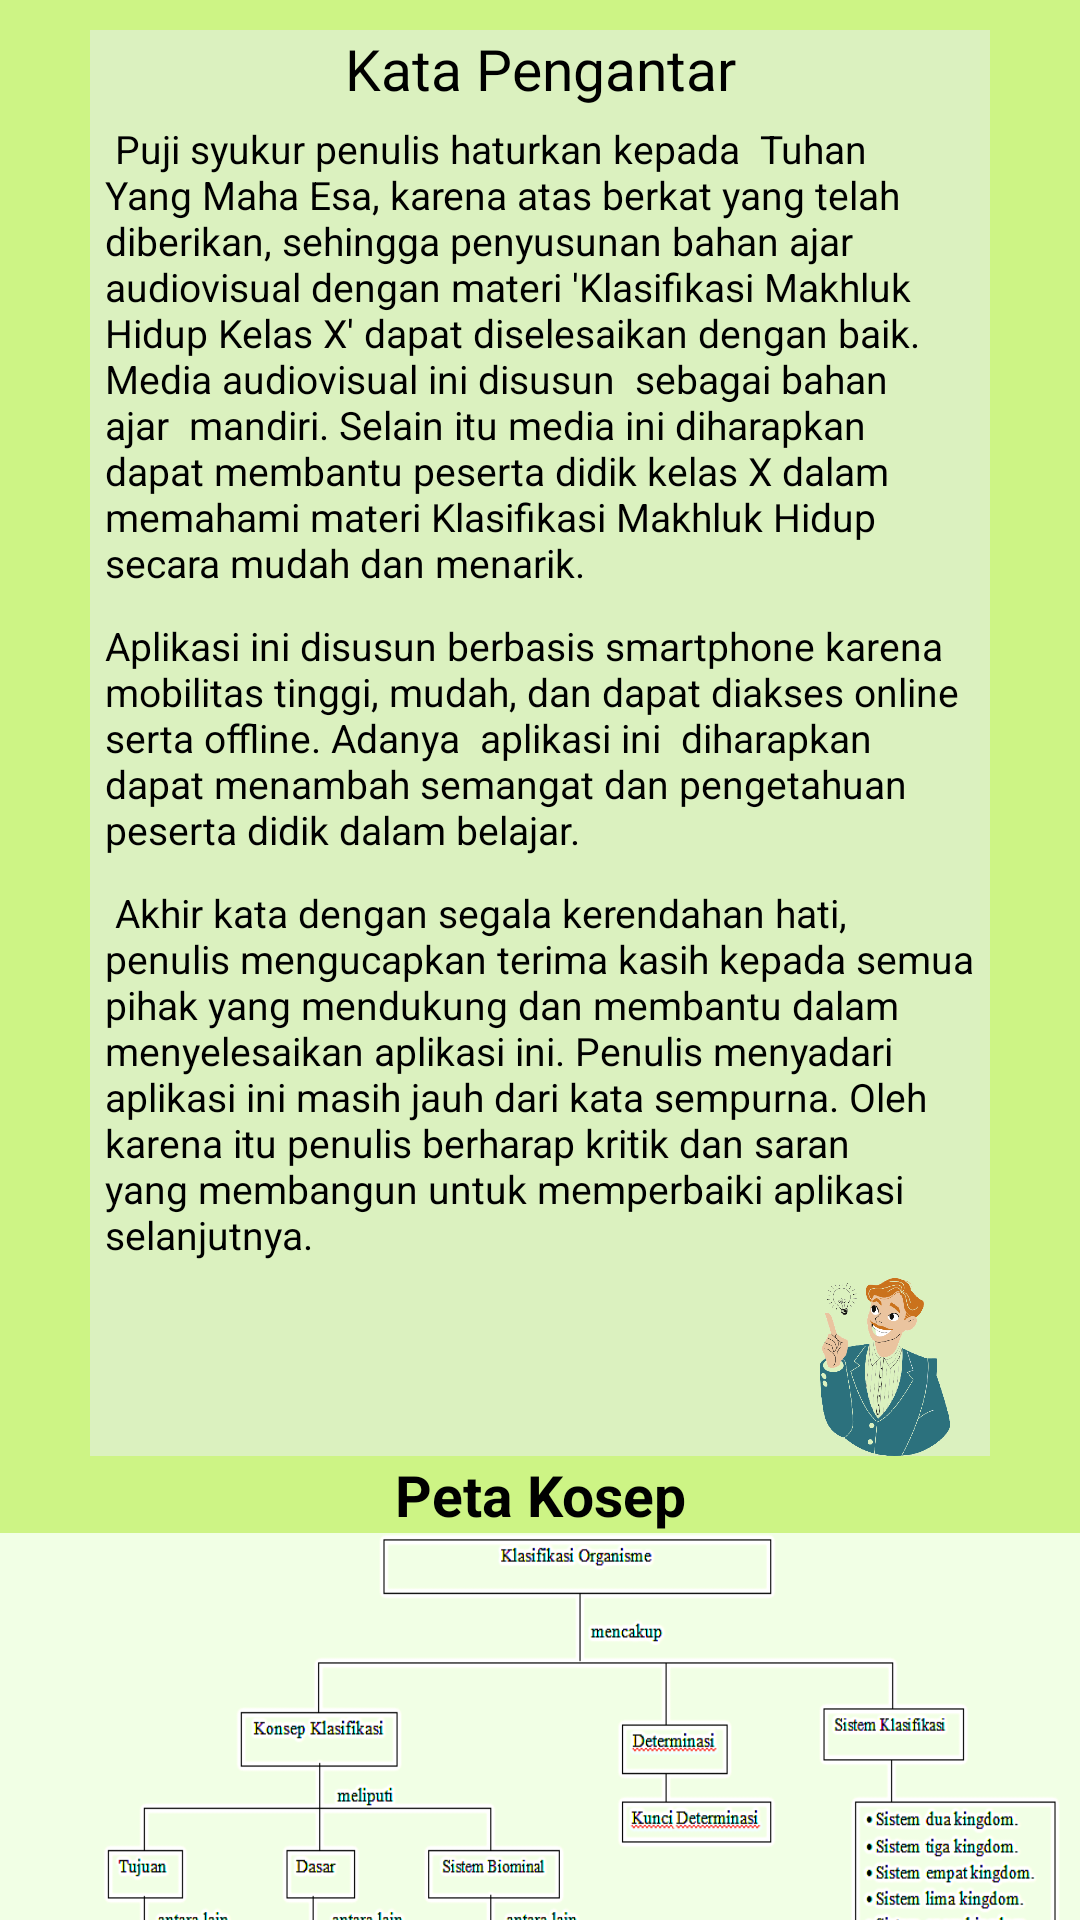

Icon bounding boxes for this 1080w x 1920h phone screenshot, format (x1, y1, x2, y2):
orang: (820, 1278, 950, 1456)
